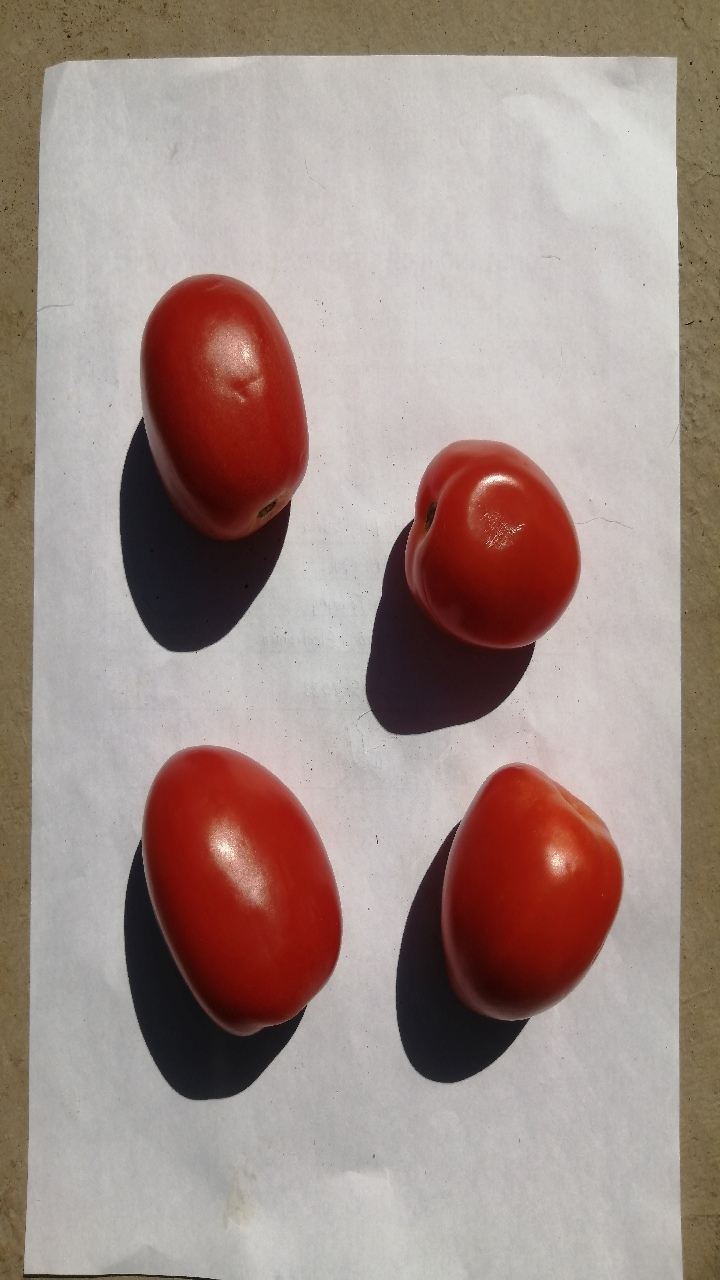tomateRojo: (118, 732, 364, 1059), (417, 746, 641, 1066), (126, 255, 318, 551), (389, 408, 591, 663)
